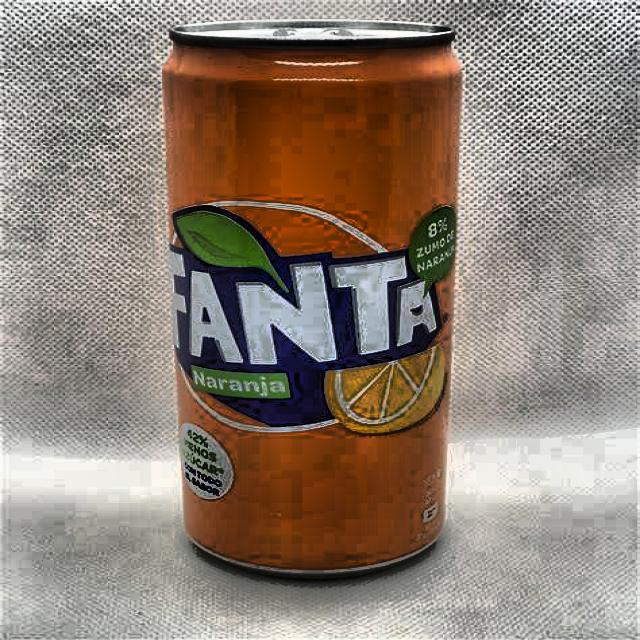Cans: (150, 0, 482, 594)
